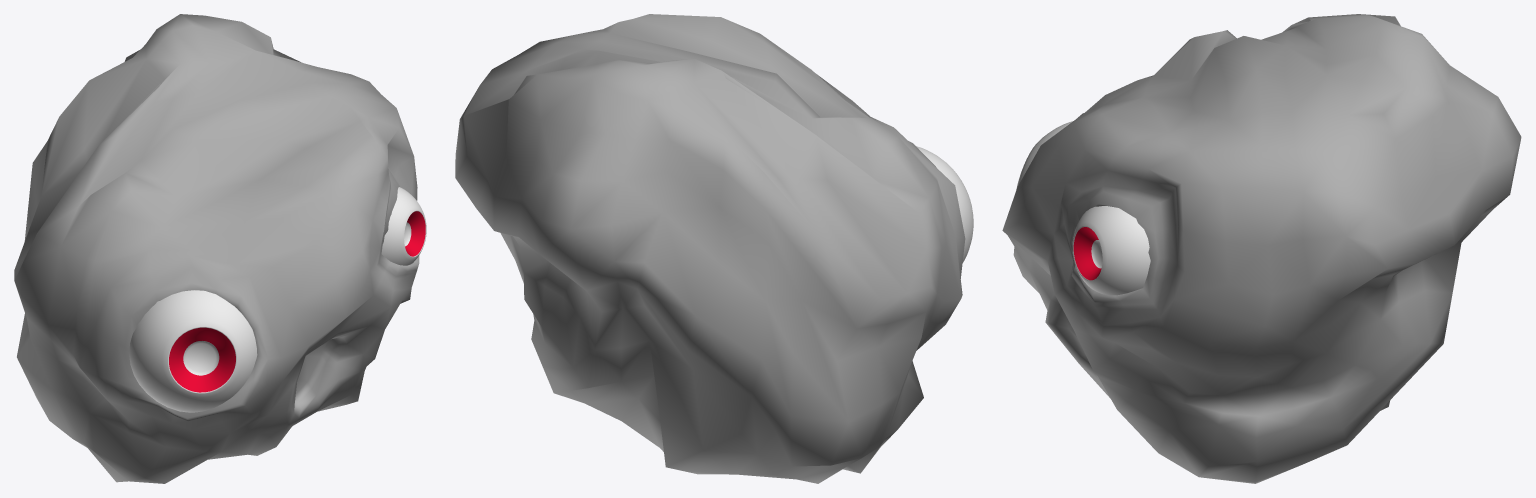
File: Asteroid4_Mesh.fbx
The picture shows the model from 3 angles, left to right: view 1: azimuth 30°, elevation 25°; view 2: azimuth 150°, elevation 25°; view 3: azimuth 270°, elevation 25°; orthographic projection. The views are drawn at different scales.
Parts seen in each view (by area): view 1: polySurface14; view 2: polySurface14; view 3: polySurface14.
Boxes of the visible parts, <box> form: polySurface14: <box>14,14,426,483</box>; polySurface14: <box>455,14,973,483</box>; polySurface14: <box>1002,14,1521,483</box>.
Size of the model in its own units: 120 by 115 by 121.
